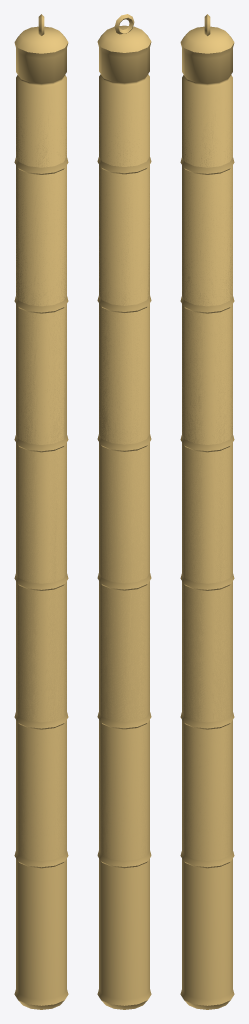
The model's file is choir_tube.glb.
3 views of the same model, side by side, from view 1: azimuth 90°, elevation 25°; view 2: azimuth 210°, elevation 25°; view 3: azimuth 270°, elevation 25° (orthographic).
Parts seen in each view (by area): view 1: IA_tube_1, IA_tube_3, IA_tube_2, IA_tube_5, IA_tube_4, IA_tube_6, IA_tube_7; view 2: IA_tube_1, IA_tube_3, IA_tube_2, IA_tube_5, IA_tube_4, IA_tube_6, IA_tube_7; view 3: IA_tube_1, IA_tube_3, IA_tube_2, IA_tube_5, IA_tube_4, IA_tube_6, IA_tube_7.
Boxes of the visible parts, x1,y1,x2,y2 form: IA_tube_1: [14, 14, 68, 1009]; IA_tube_3: [14, 81, 68, 729]; IA_tube_2: [14, 79, 68, 868]; IA_tube_5: [14, 78, 68, 452]; IA_tube_4: [14, 84, 68, 590]; IA_tube_6: [14, 82, 68, 313]; IA_tube_7: [14, 82, 68, 174]; IA_tube_1: [97, 14, 151, 1009]; IA_tube_3: [97, 78, 151, 729]; IA_tube_2: [97, 77, 151, 868]; IA_tube_5: [97, 82, 151, 451]; IA_tube_4: [97, 78, 151, 590]; IA_tube_6: [97, 83, 151, 312]; IA_tube_7: [97, 83, 151, 174]; IA_tube_1: [180, 14, 234, 1009]; IA_tube_3: [180, 78, 234, 729]; IA_tube_2: [180, 79, 234, 868]; IA_tube_5: [180, 79, 234, 452]; IA_tube_4: [180, 80, 234, 590]; IA_tube_6: [180, 83, 234, 313]; IA_tube_7: [180, 84, 234, 174].
Size of the model in its own units: 0.053 by 1.07 by 0.053.
